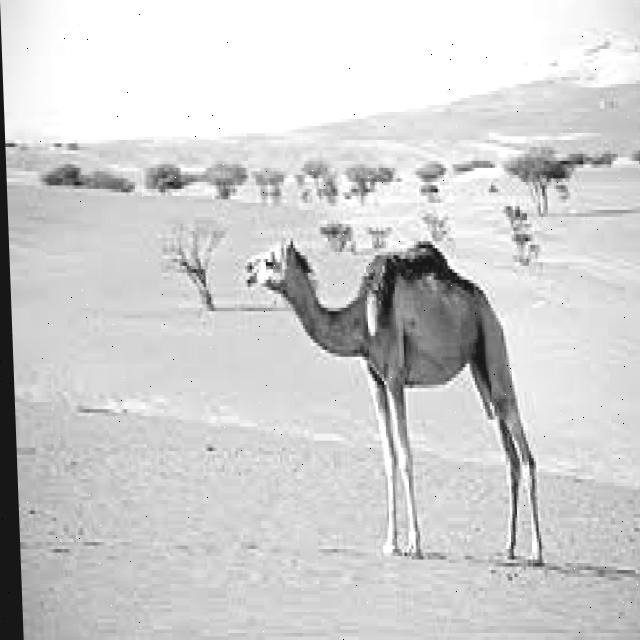Camel: (241, 234, 542, 563)
